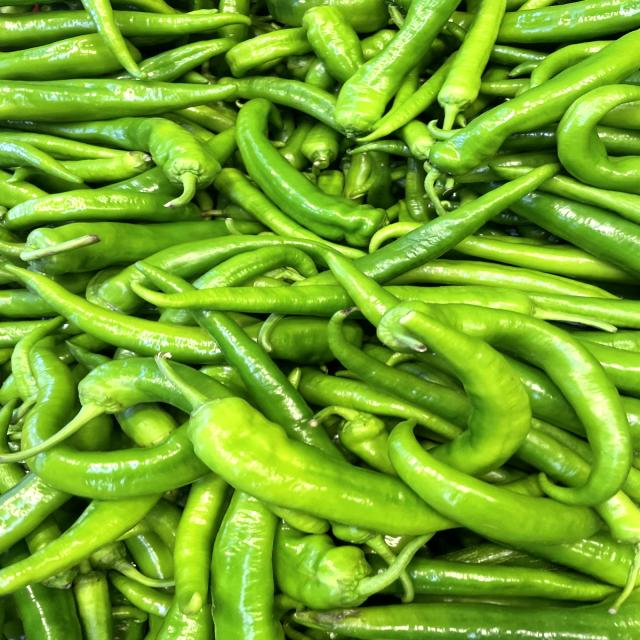green pepper: (233, 92, 404, 251), (328, 0, 469, 138)
